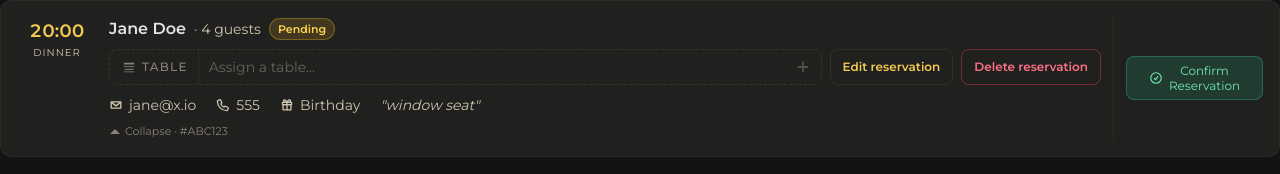
Test: ReservationRow › toggles details open and closed
Expected: the text "jane@x.io" is shown, [109,95,196,115]
Click the button "Collapse · #ABC123": click(168, 131) [109,123,228,140]
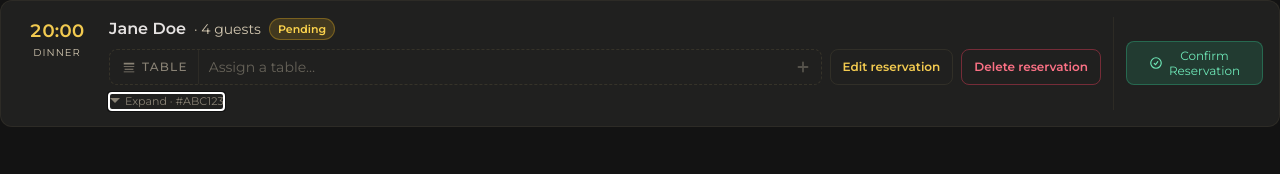
Expected: the text "jane@x.io" is gone
// Expand again
Click the button "Expand · #ABC123": click(166, 101) [109,93,224,110]
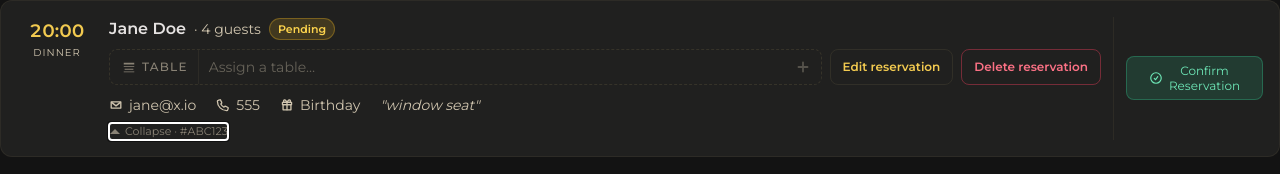
Expected: the text "jane@x.io" is shown, [109,95,196,115]
